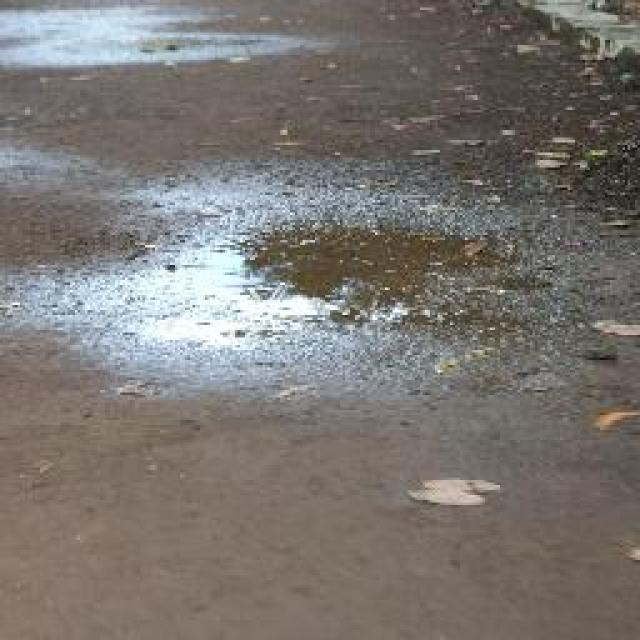puddle: (70, 223, 518, 355)
